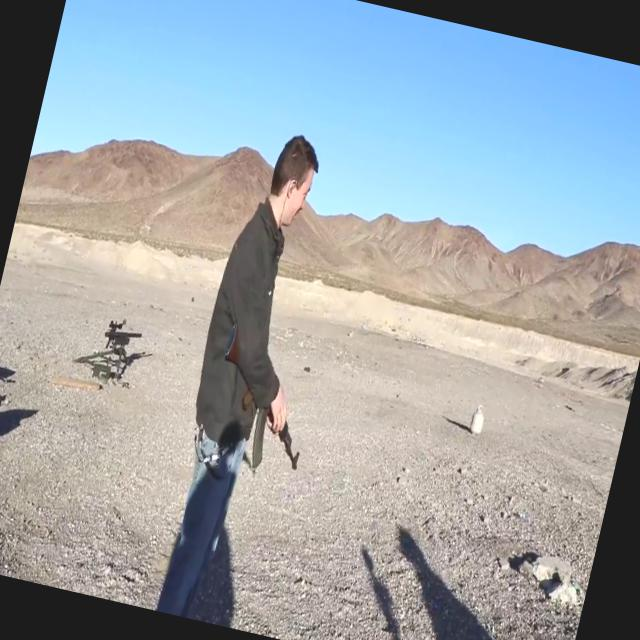long weapon: (192, 314, 334, 485), (85, 294, 163, 384)
